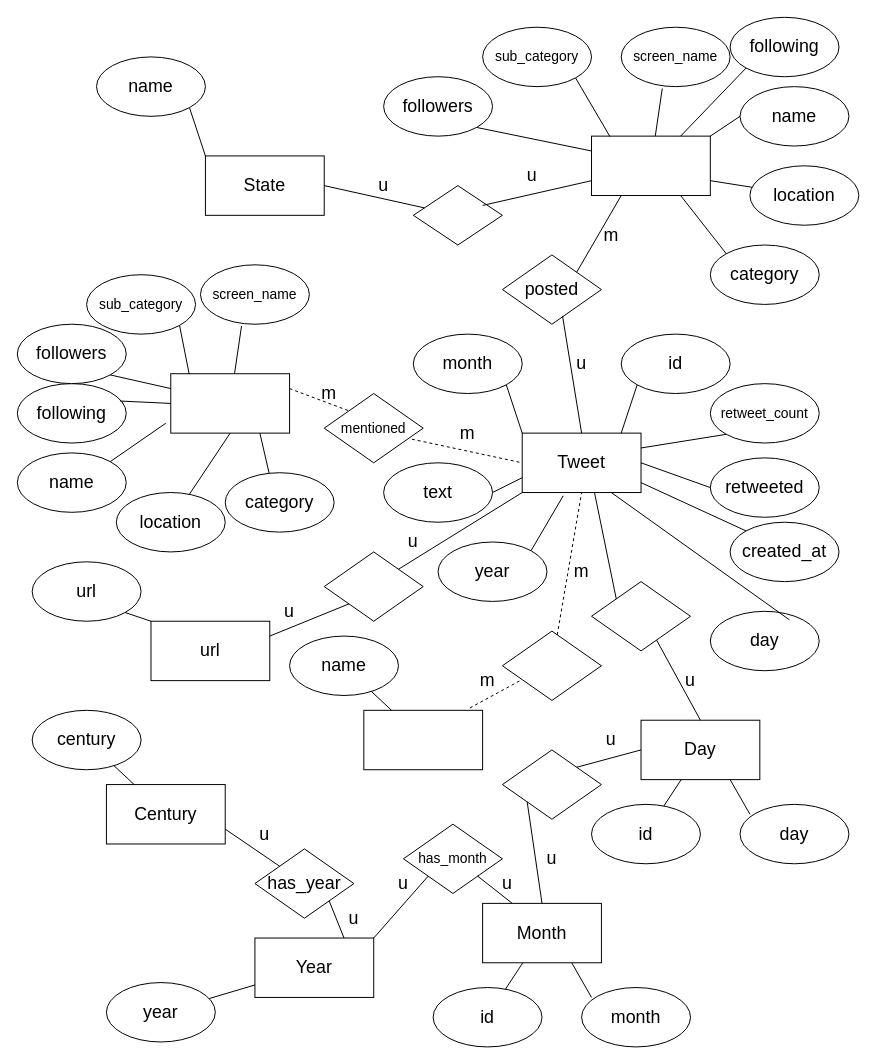
Image size: 876x1064. Some labels were removed from this diagram. Here are the shapes that lost their labels. From the top down, the centre of each, then its label:
(x=650, y=165): User (Posted)
(x=457, y=215): from
(x=230, y=403): User (Mentioned)
(x=373, y=586): url_used
(x=641, y=616): has_tweet
(x=551, y=665): tagged
(x=423, y=739): Hashtag
(x=551, y=784): has_day
